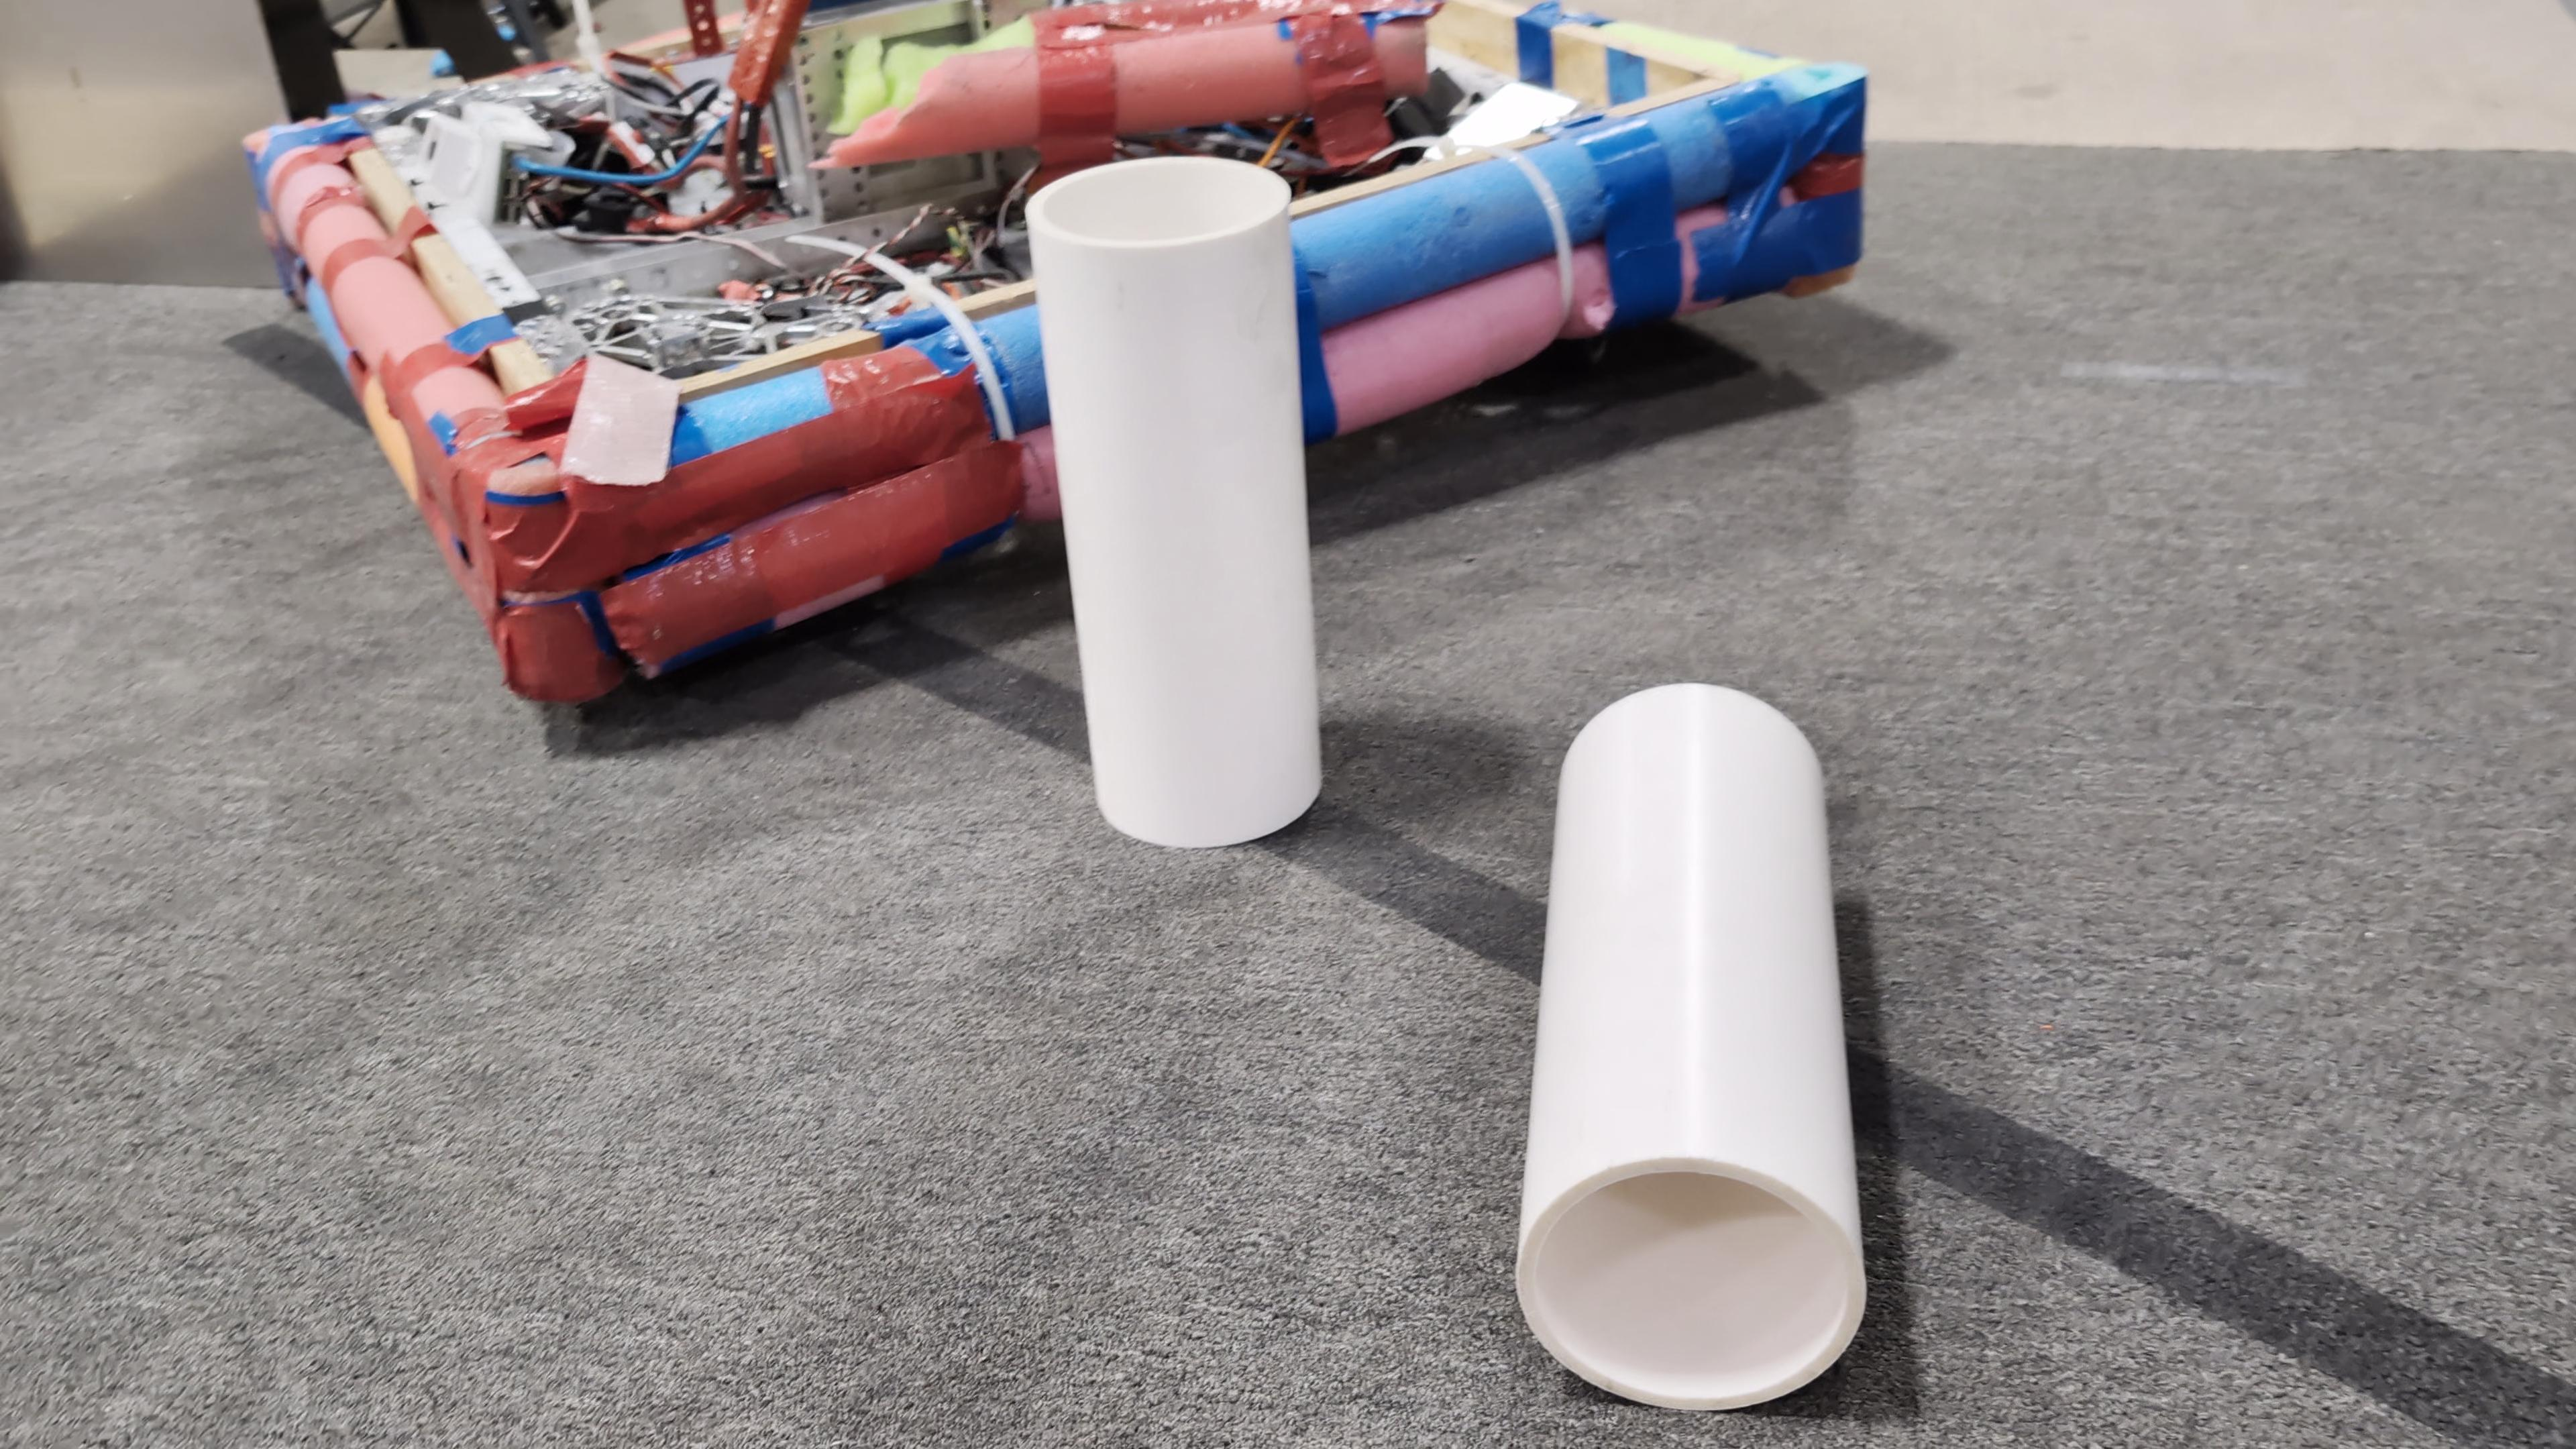coral: (1513, 683, 1868, 1412), (1024, 142, 1329, 849)
